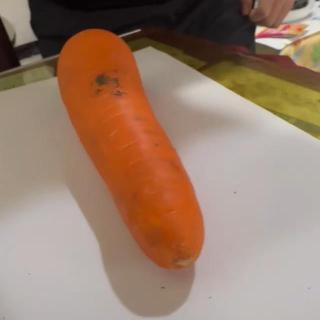carrot: (56, 27, 206, 271)
